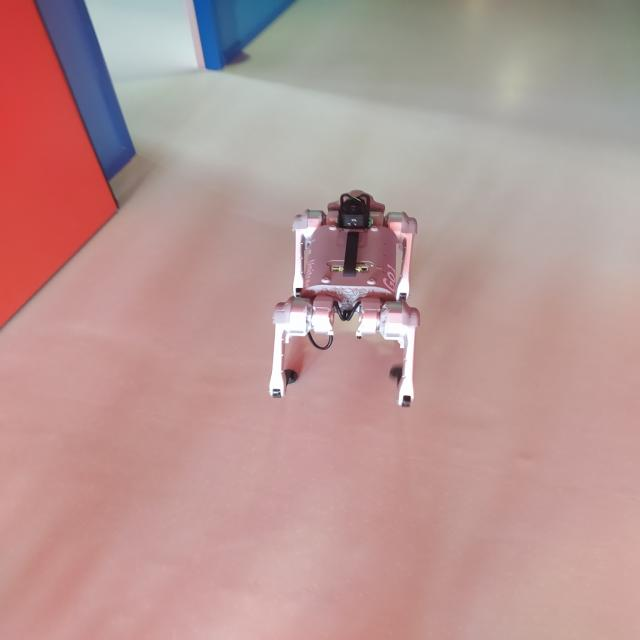unitree-go1-robot: (255, 179, 437, 421)
